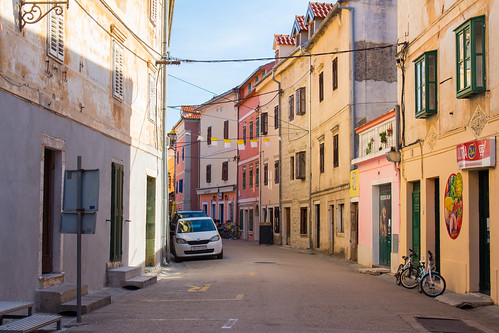bicicle: (396, 251, 445, 302)
building: (1, 1, 167, 318), (396, 1, 499, 278), (258, 1, 368, 243), (199, 61, 268, 233), (355, 108, 404, 273), (164, 112, 200, 208)
car: (169, 219, 229, 259)
street: (59, 238, 464, 333)
